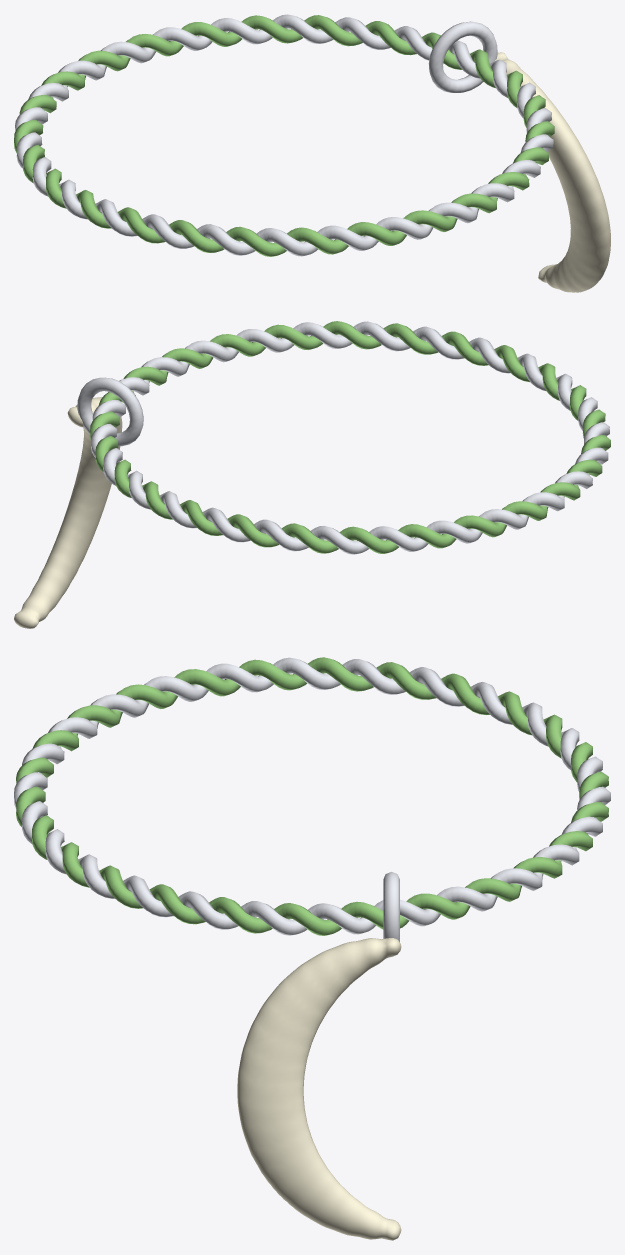
Rendered from prop_moonstone319.glb.
3 renders of one model, top to bottom at view 1: azimuth 30°, elevation 25°; view 2: azimuth 150°, elevation 25°; view 3: azimuth 270°, elevation 25°, orthographic. The views are drawn at different scales.
Parts seen in each view (by area): view 1: cord, accent, body; view 2: cord, accent, body; view 3: body, cord, accent.
Part boxes in pixels (x1,y1,x2,y2): cord: (15, 14, 553, 256); accent: (14, 15, 554, 256); body: (494, 52, 610, 292); cord: (77, 321, 609, 554); accent: (90, 321, 610, 553); body: (14, 397, 122, 628); body: (237, 938, 401, 1240); cord: (14, 657, 610, 941); accent: (16, 657, 608, 935).
Size of the model in its own units: 0.759 by 0.3698 by 0.6336.
